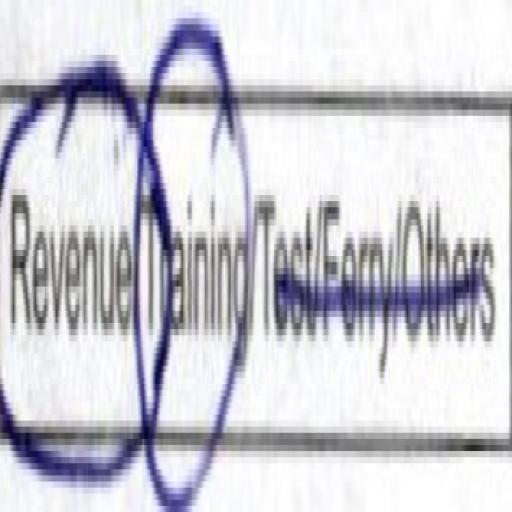check: (0, 0, 138, 512), (143, 0, 254, 500)
